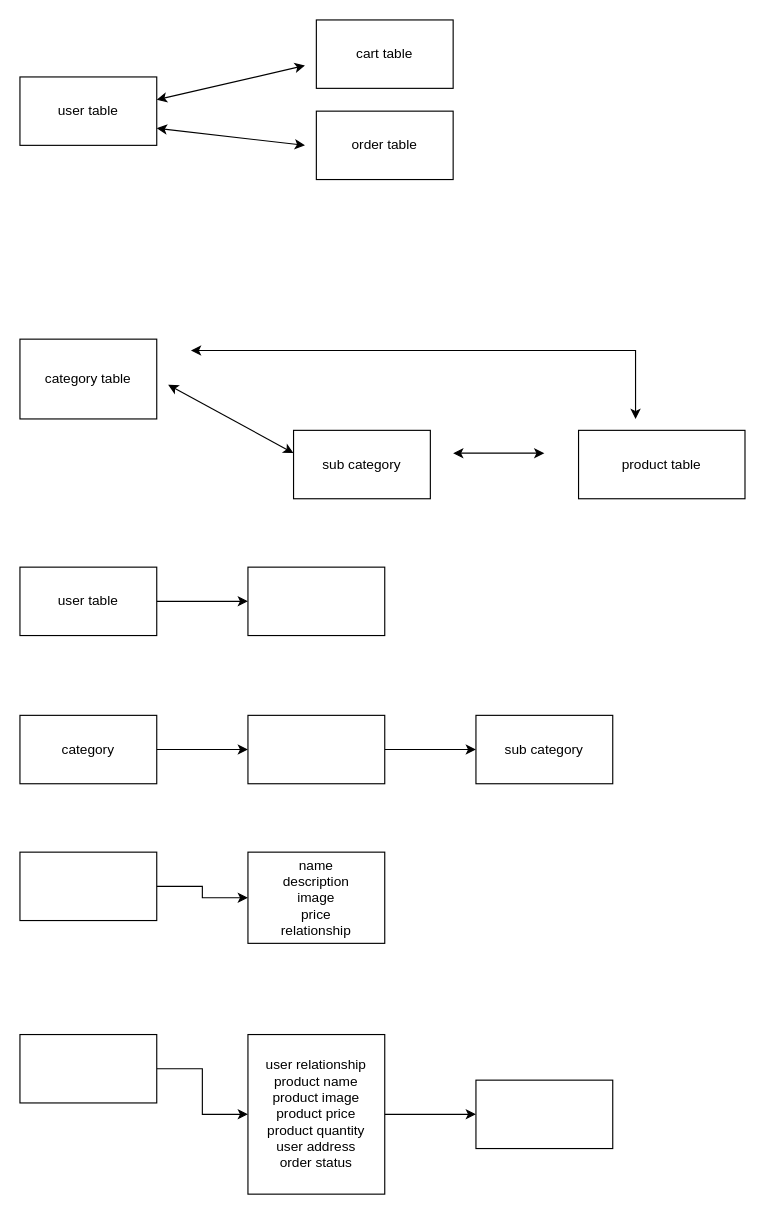
Image size: 765x1214. Some labels were removed from this diagram. Each missing label, with the centre of its shape:
"add to cart" goes at pixel 544 1114.
"name description image" goes at pixel 316 749.
"name email password" goes at pixel 316 601.
"order" goes at pixel 88 1068.
"product" goes at pixel 88 886.
